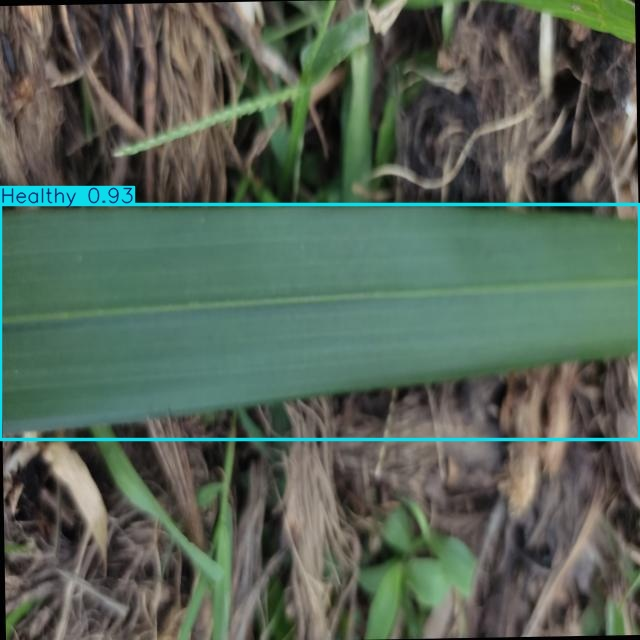Healthy: (1, 204, 640, 440)
